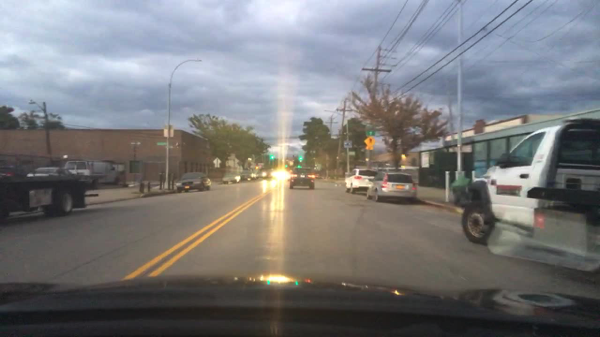car: (366, 171, 417, 205), (64, 160, 120, 187), (343, 167, 378, 194), (176, 172, 212, 192), (27, 166, 72, 181), (288, 167, 316, 191), (221, 171, 242, 184), (240, 170, 257, 181), (272, 169, 288, 180), (257, 170, 271, 179), (314, 171, 321, 179)
traffic light: (298, 155, 302, 161), (269, 154, 273, 159), (297, 165, 302, 169), (285, 164, 288, 169)
traffic sign: (363, 137, 374, 150), (163, 129, 173, 138), (212, 157, 221, 167), (156, 142, 168, 146), (366, 131, 374, 136), (348, 151, 355, 155)
truck: (452, 116, 599, 273), (0, 171, 87, 224)
